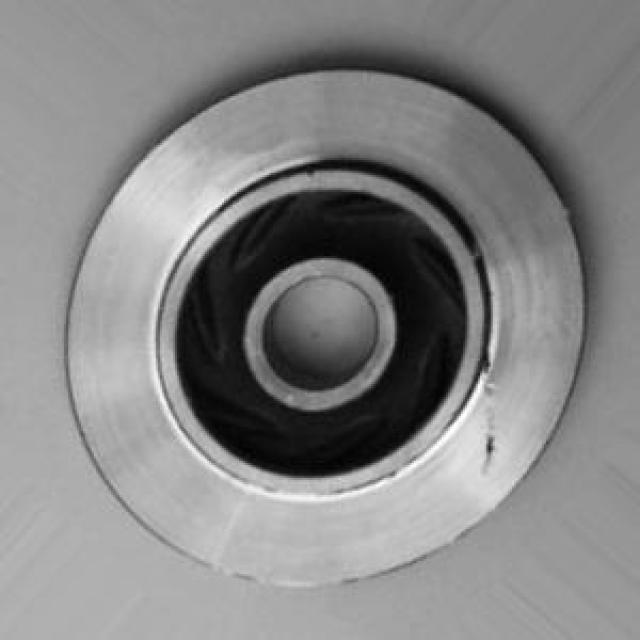Defect: (469, 366, 505, 422)
